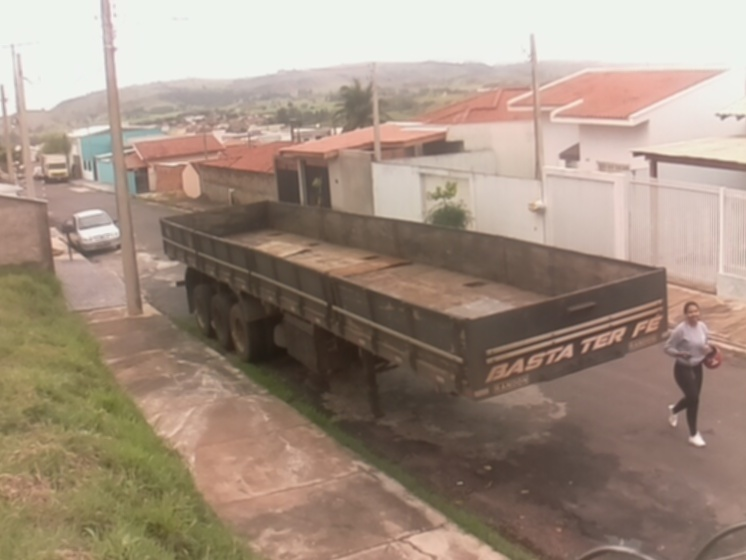person: (661, 301, 719, 453)
